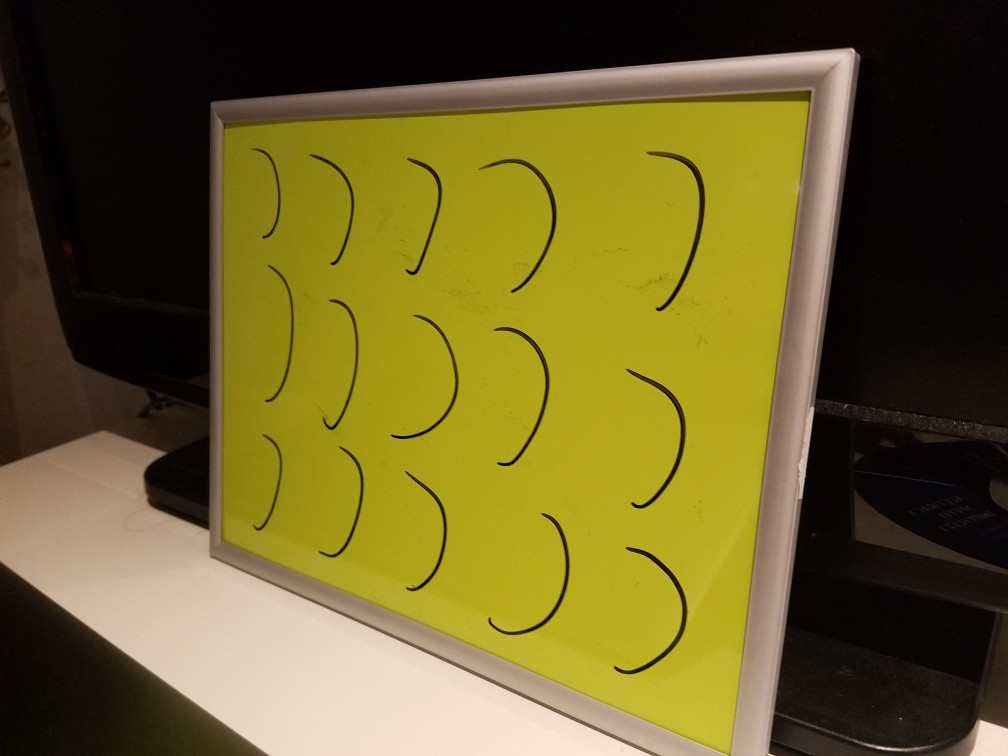): (611, 123, 718, 329), (474, 145, 576, 307), (477, 494, 577, 645), (606, 532, 701, 688), (618, 352, 701, 523), (377, 299, 465, 448), (483, 316, 558, 480), (395, 456, 453, 612), (245, 260, 303, 410), (389, 145, 446, 286), (316, 436, 373, 574), (313, 288, 362, 440), (311, 145, 362, 273), (246, 423, 291, 551), (242, 135, 292, 244)
